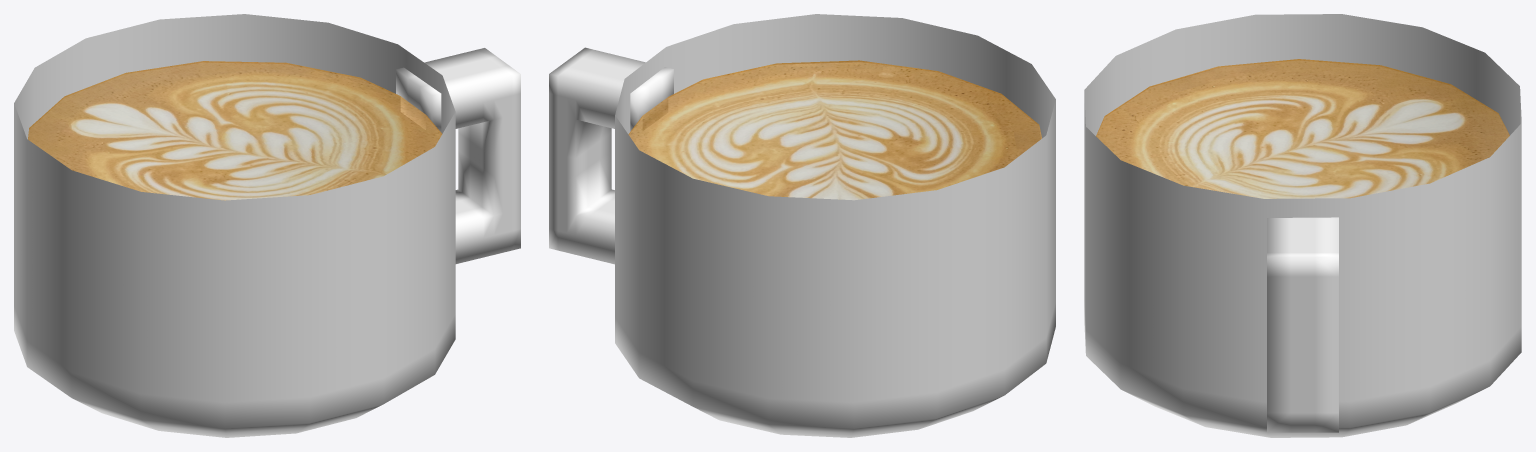
The model's file is mug.glb.
3 views of the same model, side by side, from view 1: azimuth 30°, elevation 25°; view 2: azimuth 150°, elevation 25°; view 3: azimuth 270°, elevation 25° (orthographic).
Parts seen in each view (by area): view 1: Coffee glass with coffee, water, handle; view 2: Coffee glass with coffee, water, handle; view 3: Coffee glass with coffee, water, handle.
Part boxes in pixels (x1,y1,x2,y2): Coffee glass with coffee: [14, 14, 455, 437]; water: [28, 61, 442, 200]; handle: [396, 48, 520, 263]; Coffee glass with coffee: [615, 14, 1055, 437]; water: [628, 60, 1041, 200]; handle: [549, 47, 673, 264]; Coffee glass with coffee: [1084, 14, 1521, 437]; water: [1096, 59, 1509, 198]; handle: [1267, 217, 1338, 432].
Bounding box in the file's own units: 4.43 × 2.36 × 3.65.
3 materials, 1 textured.
